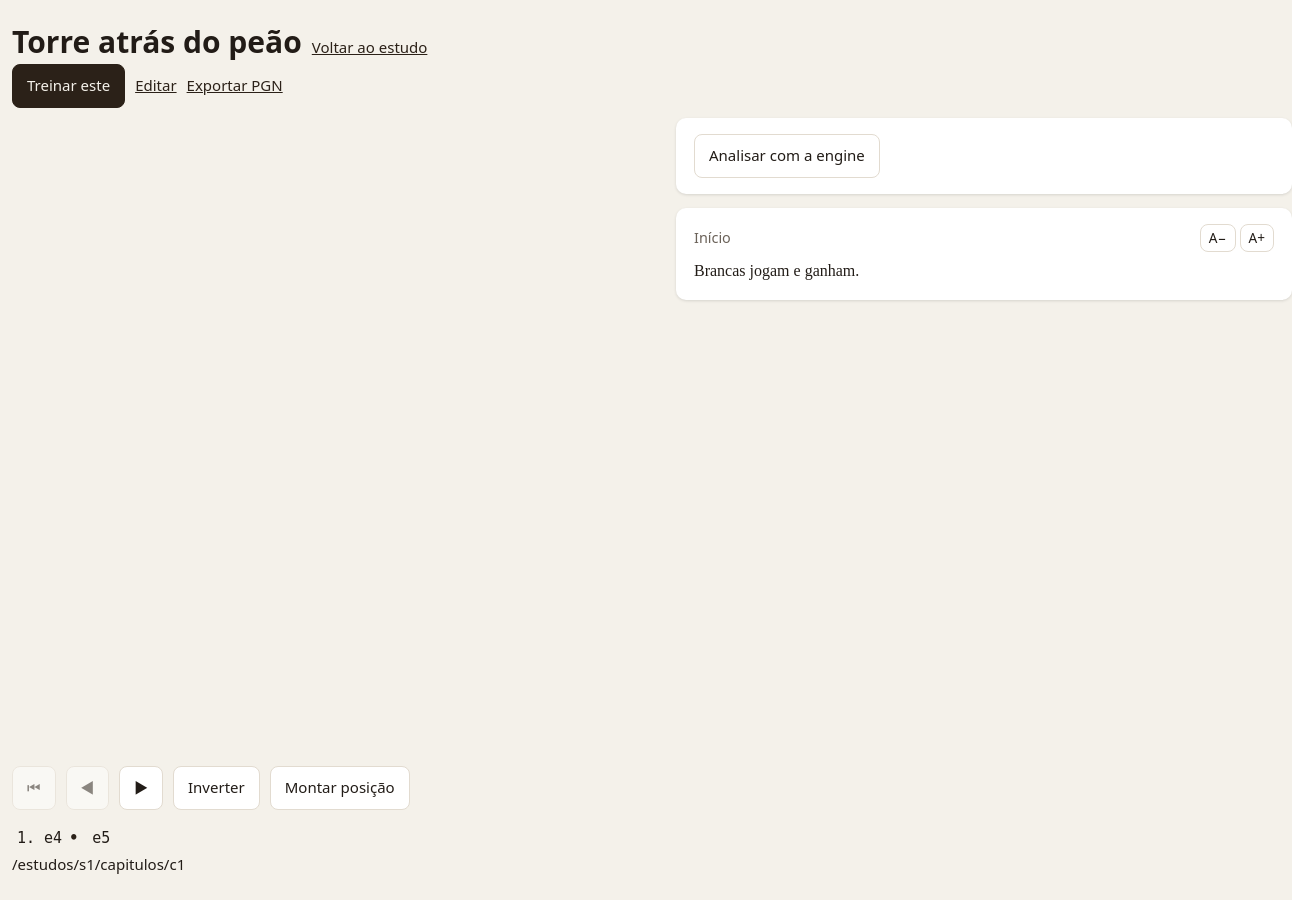
Test: o comentário do autor sai inteiro no livro, sem reticências
Expected: the heading "Torre atrás do peão" is shown, [12,20,302,64]
Expected: the picture "•" is shown, [69,829,78,847]
Click the button "1. e4" at (40, 838), box [12,822,67,854]
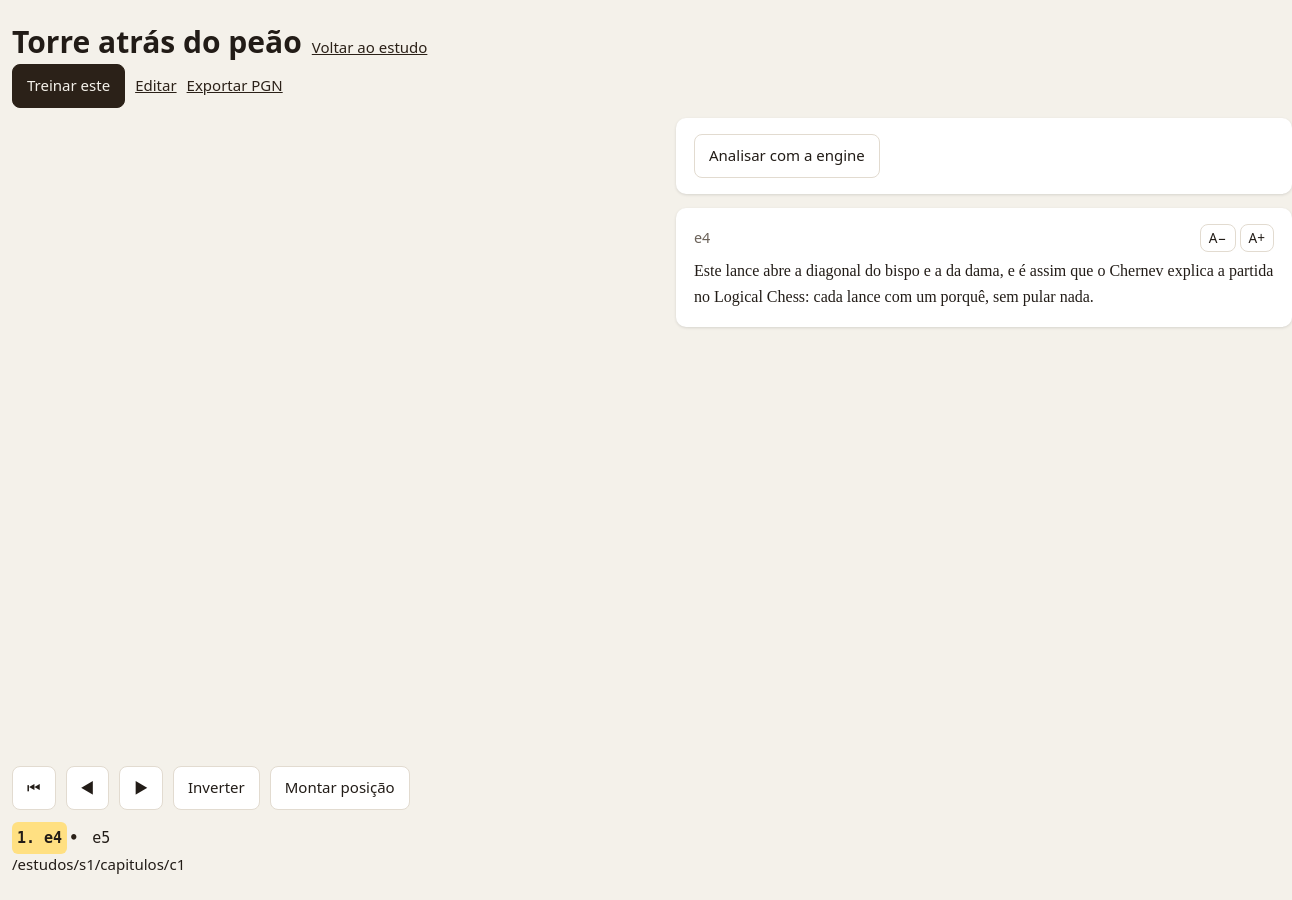
Result: the text "Este lance abre a diagonal do bispo e a da dama, e é assim que o Chernev explica a partida no Logical Chess: cada lance com um porquê, sem pular nada." is shown at [694,262,1277,305]
